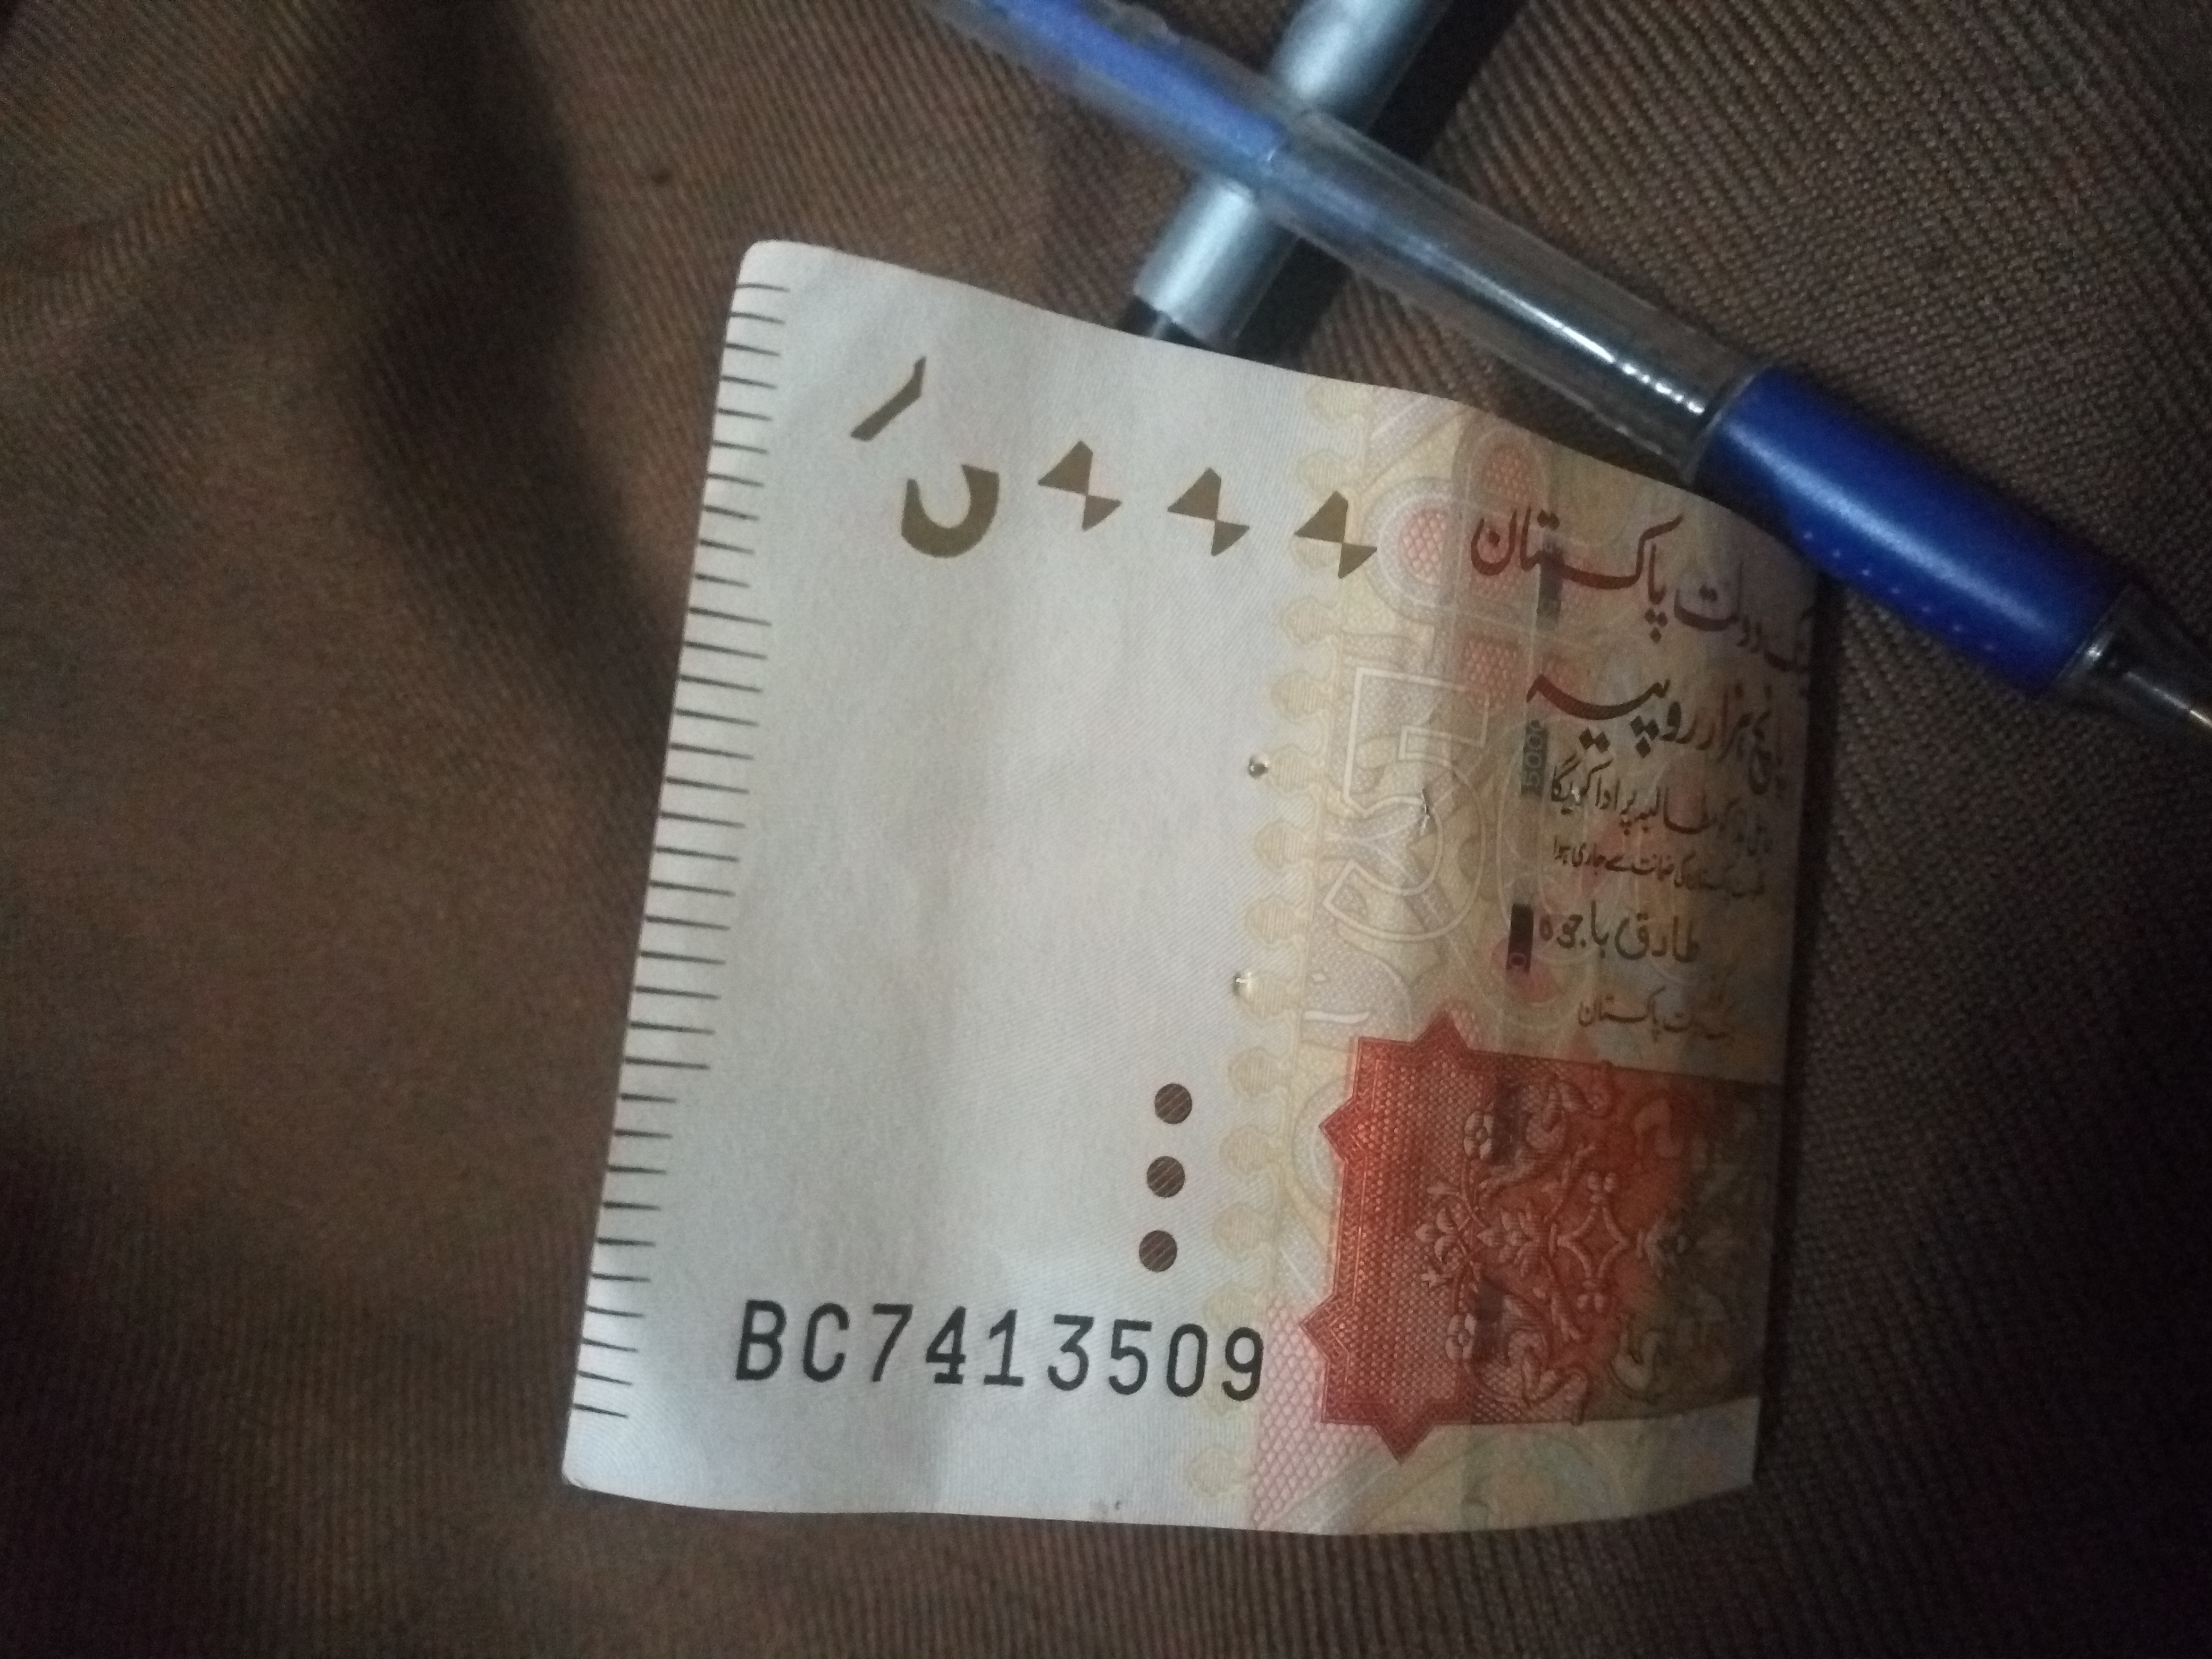5000 rupee: (456, 193, 1836, 1621), (1103, 992, 1258, 1323)
